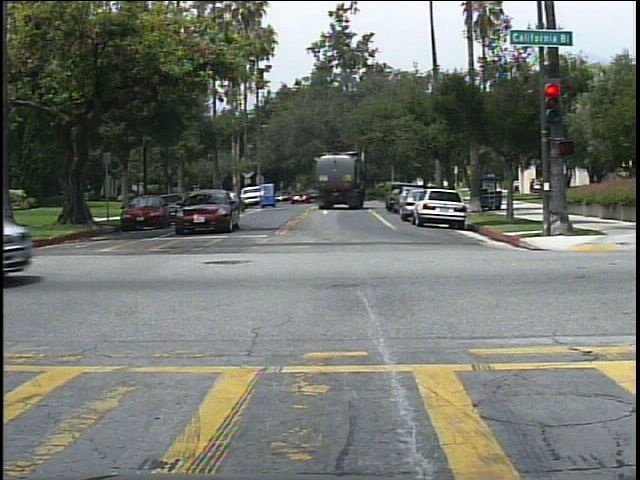person: (511, 178, 524, 198)
